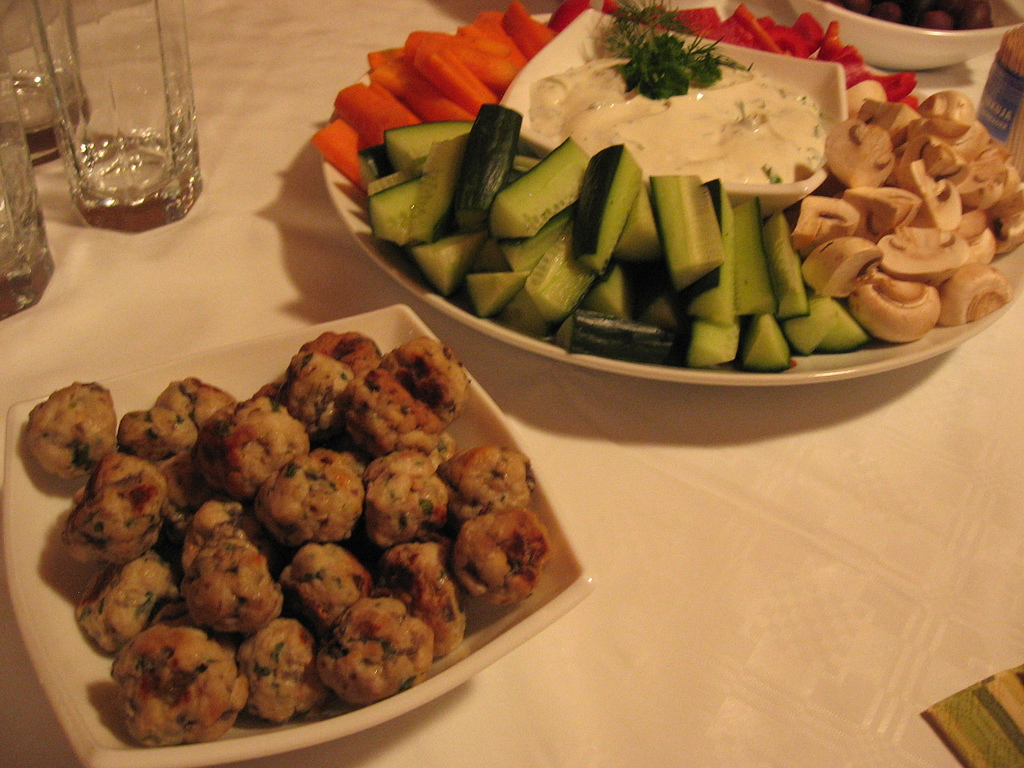meatballs: (68, 402, 504, 635)
